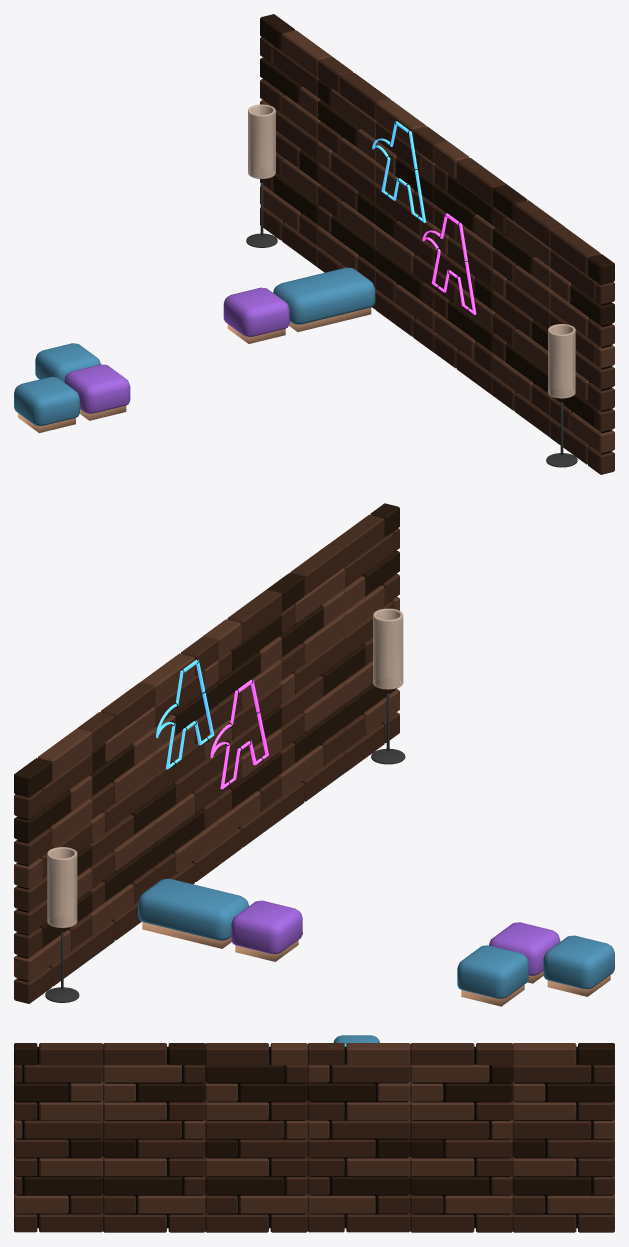
Rendered from d2x2Shape Sampleroom - Deko.glb.
3 views of the same model, one above another, from view 1: azimuth 30°, elevation 25°; view 2: azimuth 150°, elevation 25°; view 3: azimuth 270°, elevation 25° (orthographic). The views are drawn at different scales.
Visible parts, largest first — view 1: Round_Frame.002; view 2: Round_Frame.002; view 3: Round_Frame.002.
Part boxes in pixels (<box>): Round_Frame.002: <box>14,14,614,474</box>; Round_Frame.002: <box>14,503,614,1006</box>; Round_Frame.002: <box>14,1035,614,1232</box>.
Size of the model in its own units: 5.53 by 2.78 by 8.22.
Materials: 7 (1 with a texture image).
